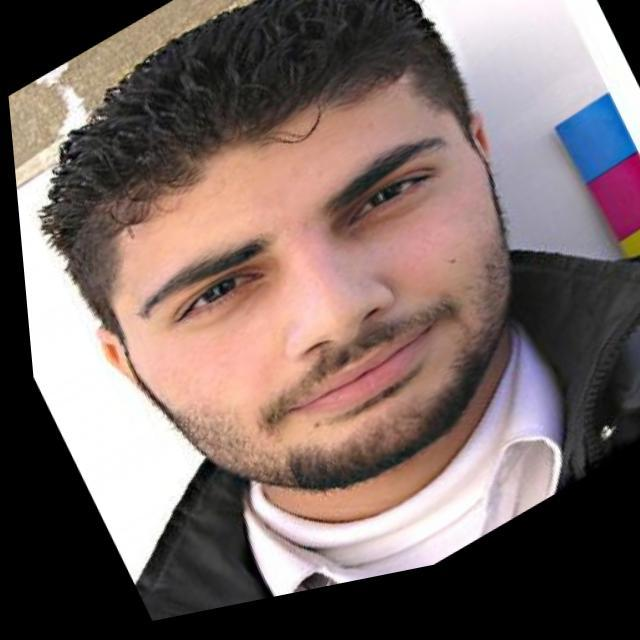Nonhelmet: (35, 0, 521, 494)
